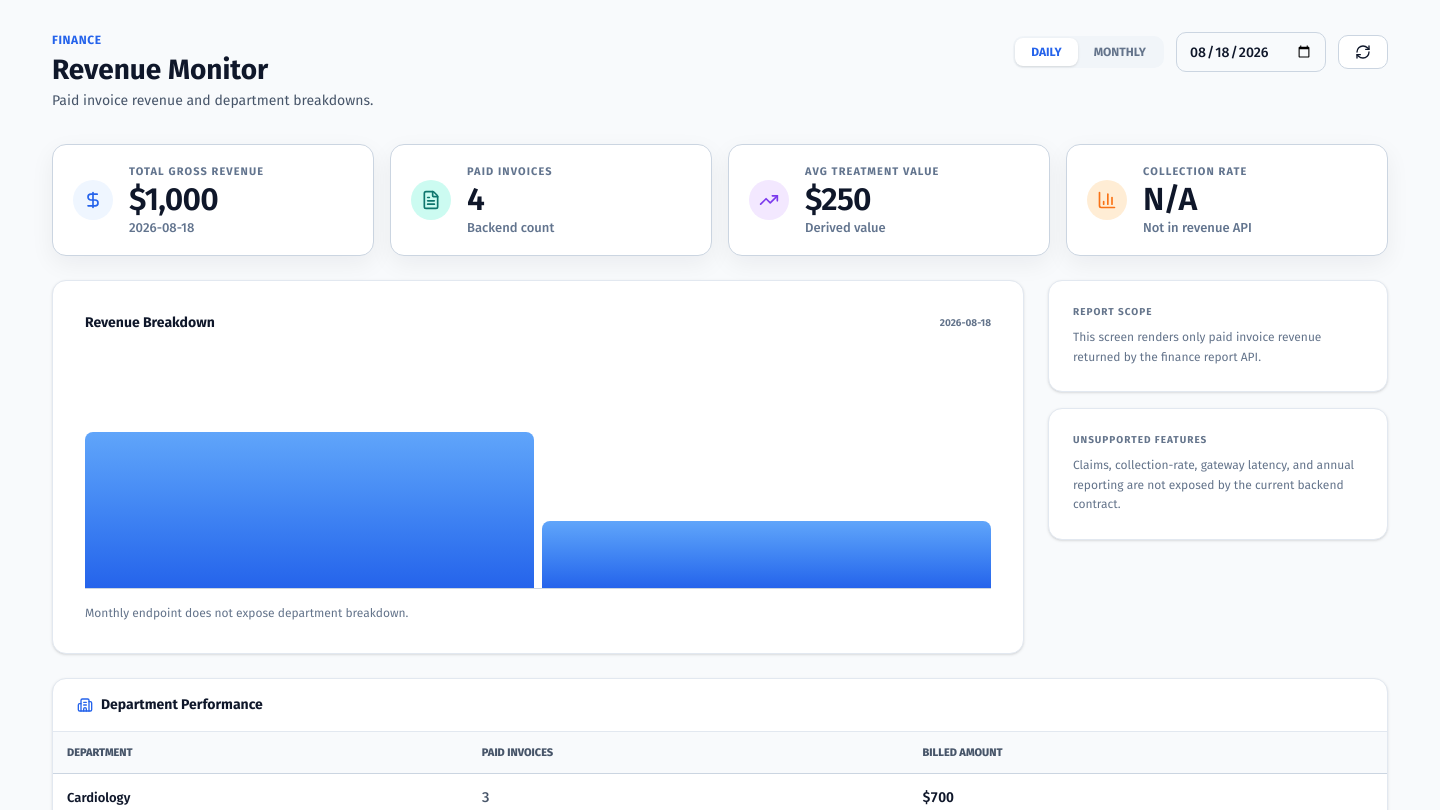
Test: RevenueDashboardPage › loads monthly revenue when the mode changes
The image size is (1440, 810).
Click the button "MONTHLY" at [1120, 52], box [1078,38,1162,66]
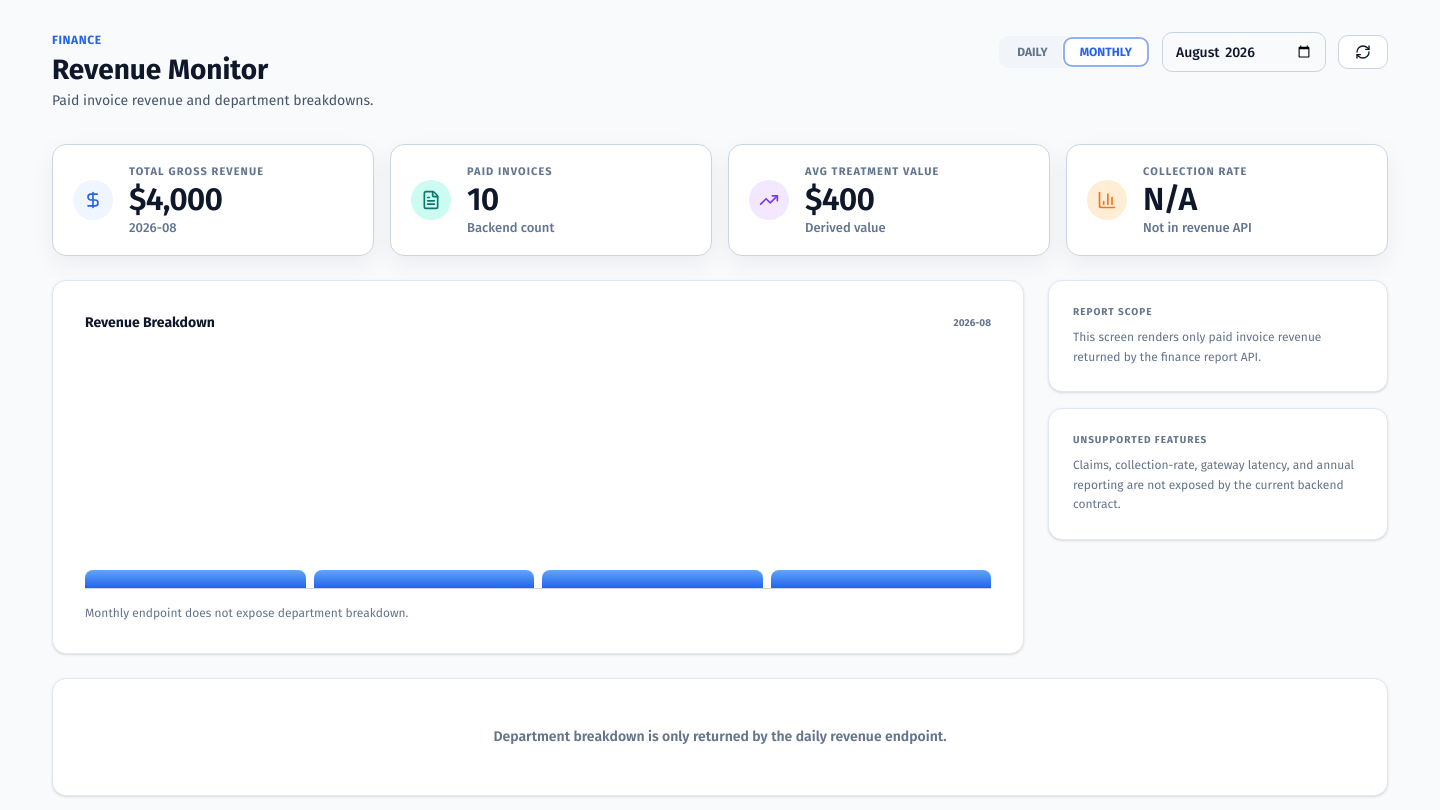
Result: the text "$4,000" is shown at [129,180,222,218]
Result: the text "Department breakdown is only returned" is shown at [493,728,947,745]
